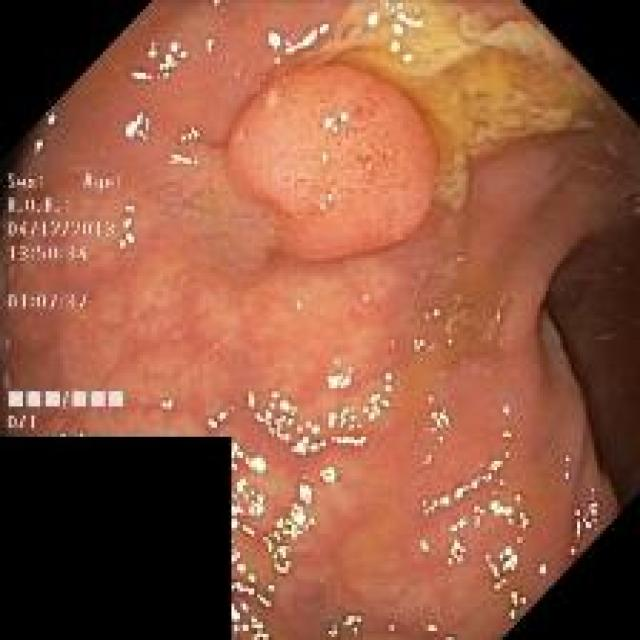Polyps: (228, 64, 438, 261)
